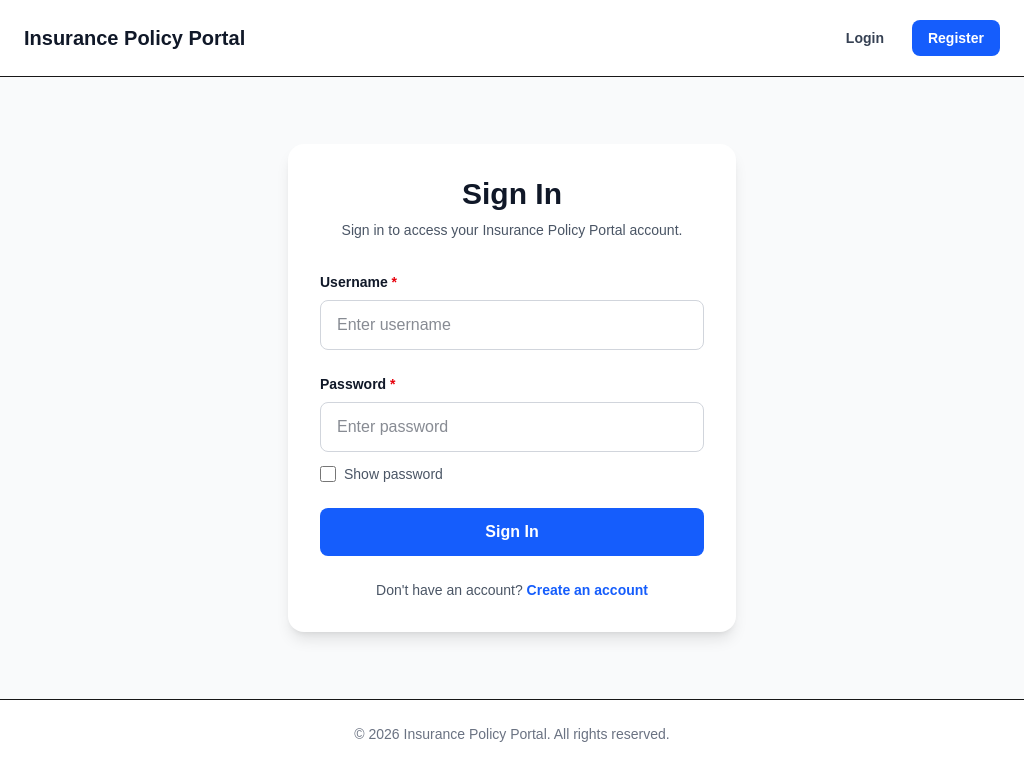
Test: LoginPage › should display username validation error when username is empty
The image size is (1024, 768).
Click the button "Sign In".
click(512, 532)  # box [320, 508, 704, 556]
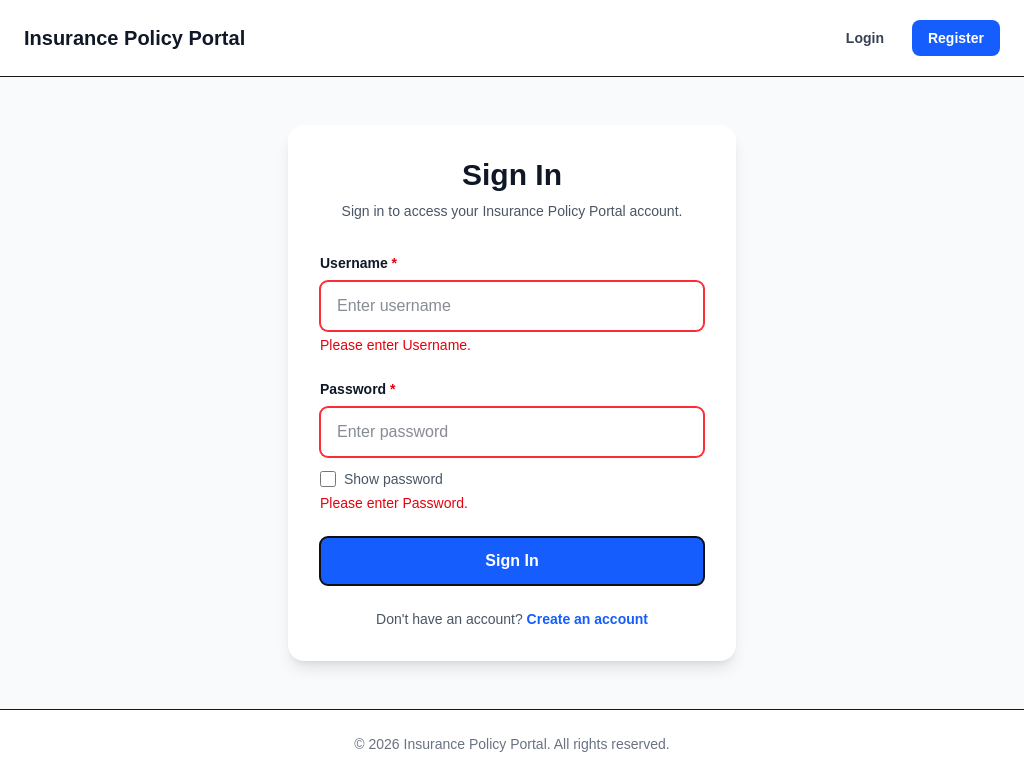
expect the text "Please enter Username." is shown: met, box [320, 337, 471, 353]
